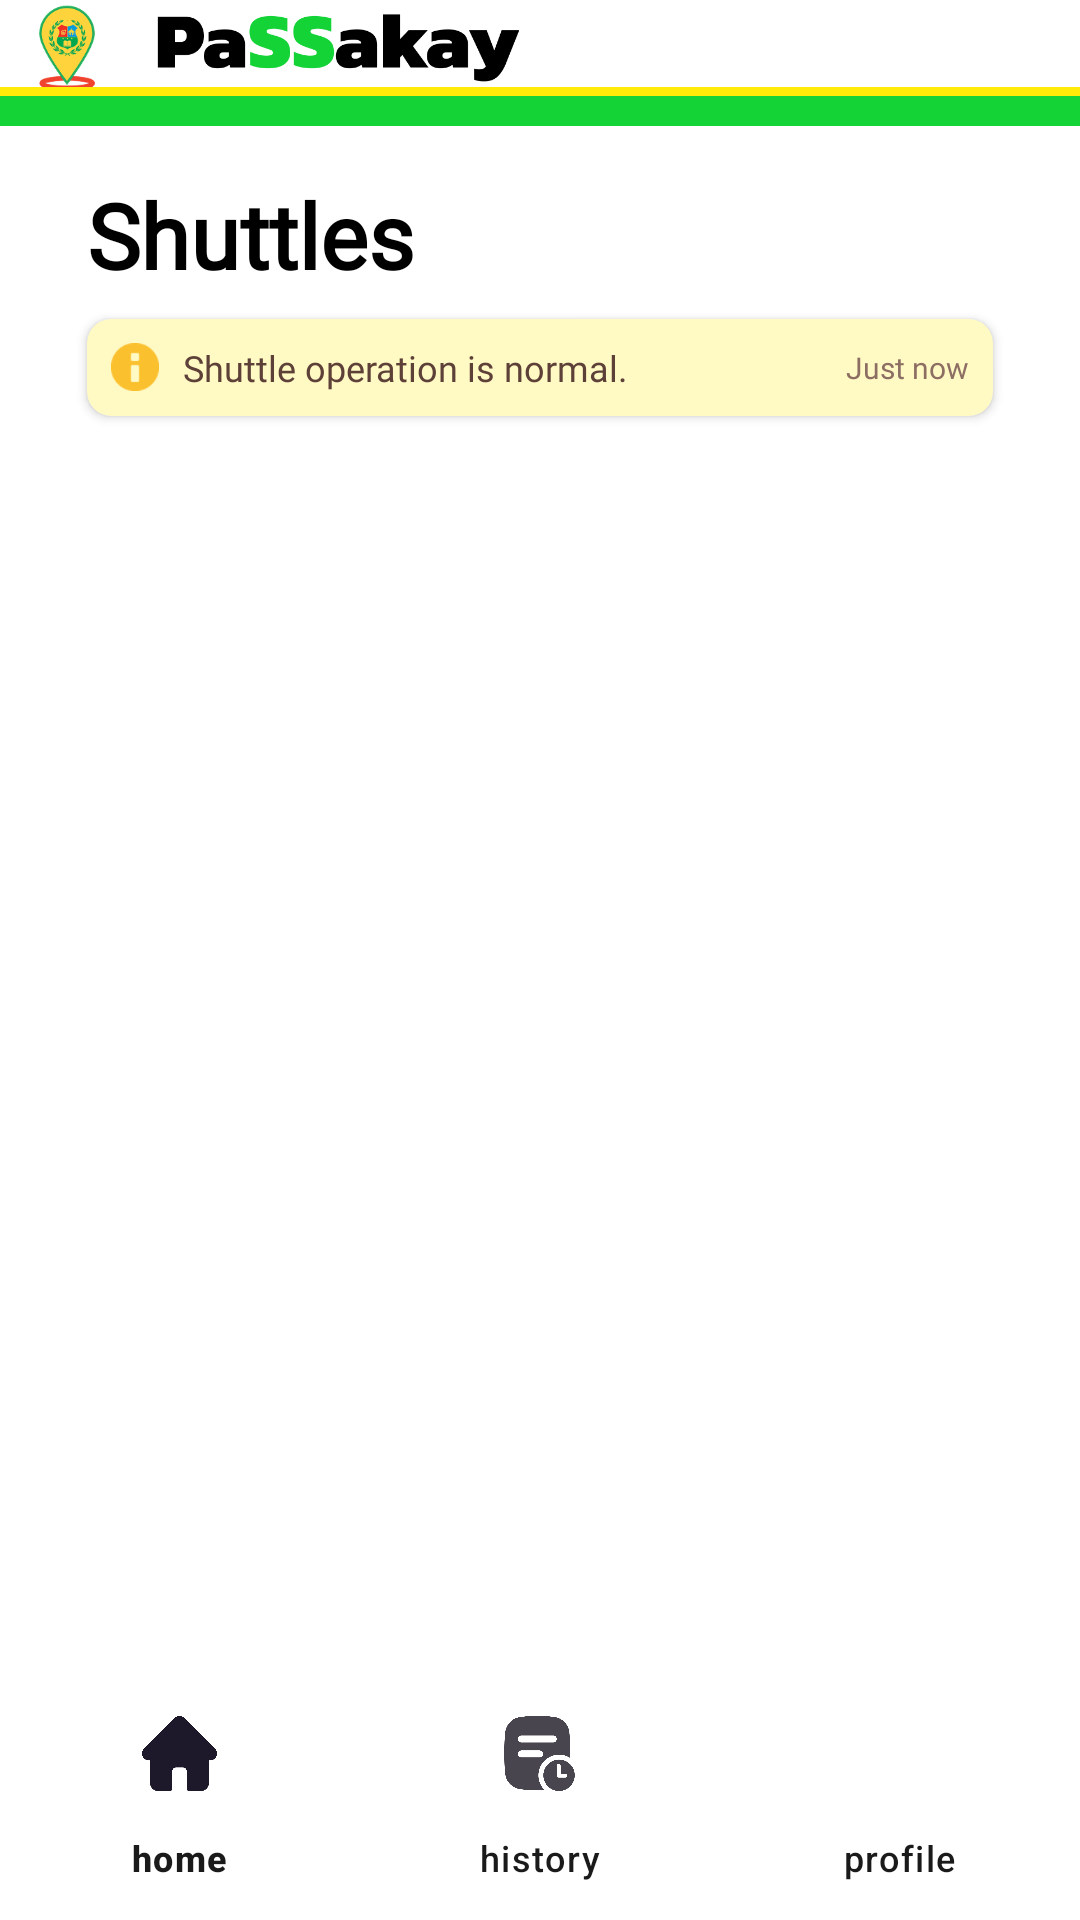

Named icons in this screenshot (1080px x 1920px) and their bounding boxes, (x1, y1, x2, y2):
Info icon: (111, 343, 159, 391)
